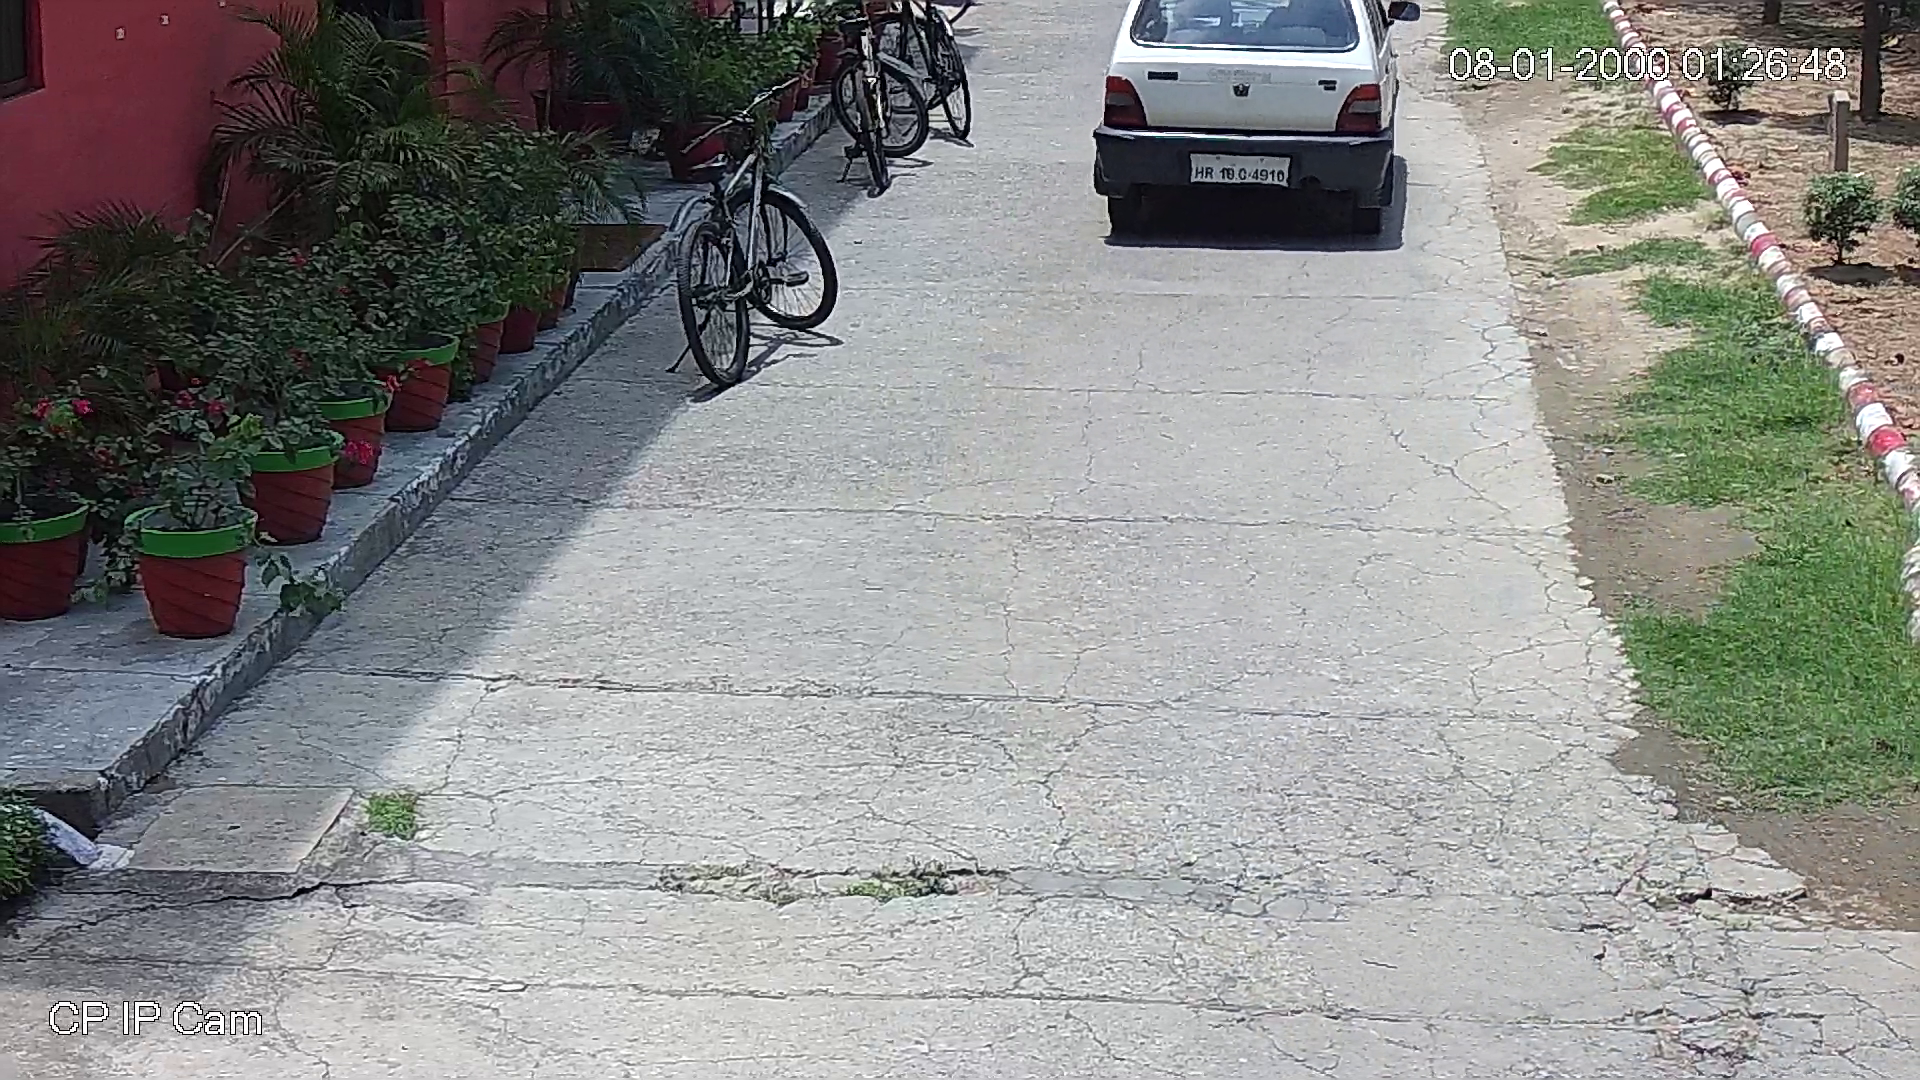plate: (1184, 150, 1300, 190)
